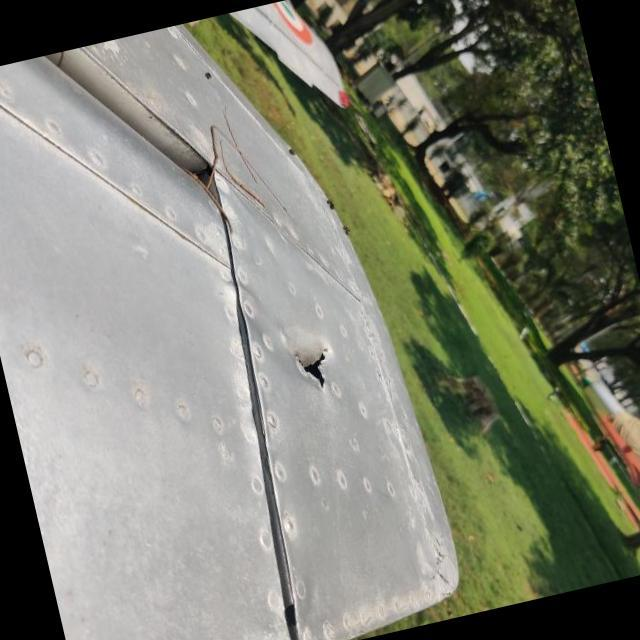Rupture: (260, 314, 366, 412)
